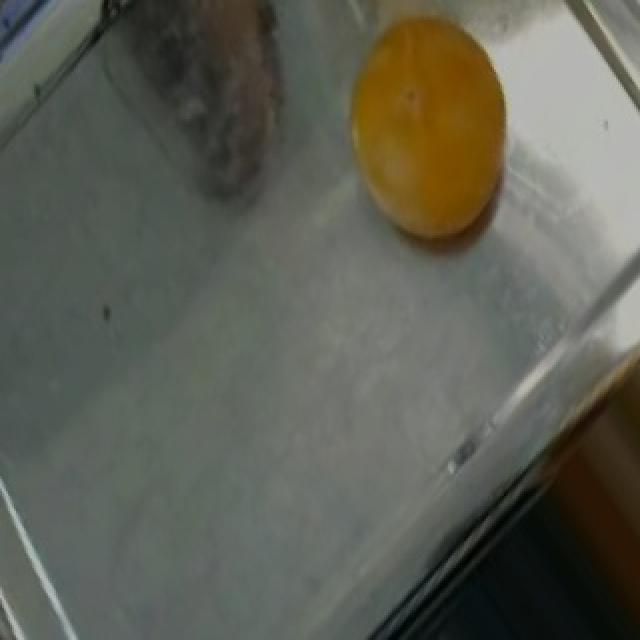Fruit: (320, 12, 542, 263), (586, 0, 640, 146)
